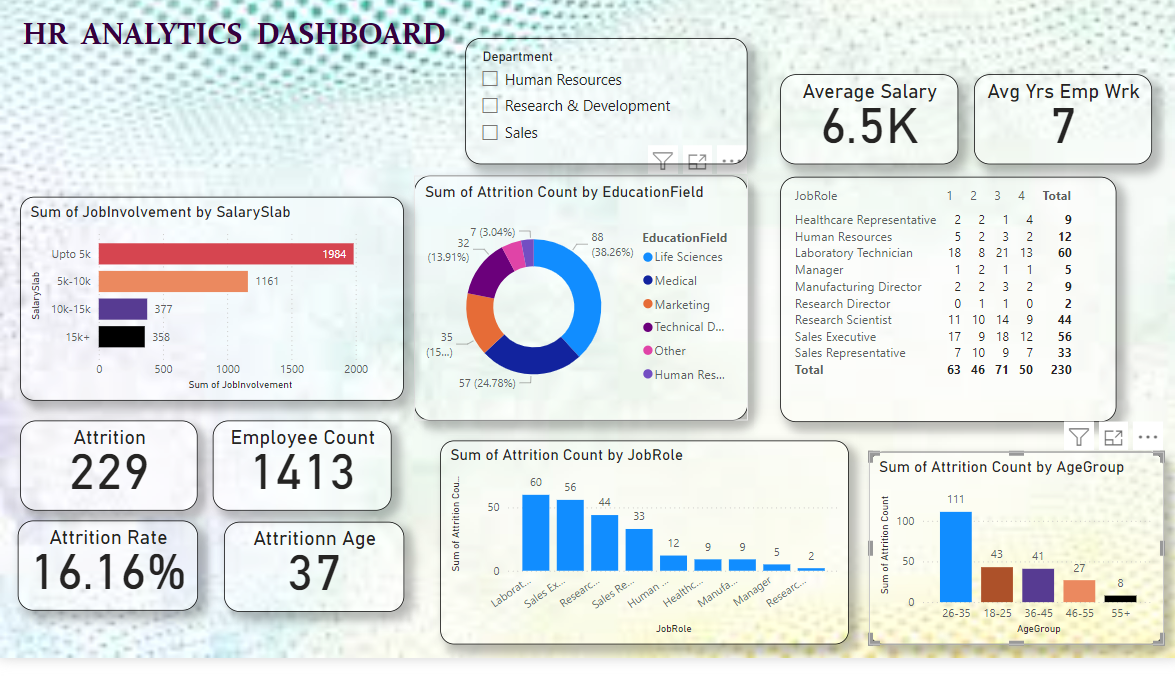

What the dashboard file says about the page in this screenshot:
{"tool":"powerbi","page":{"name":"Page 1","canvas":[1280,720],"ordinal":0},"visuals":[{"type":"textbox","box":[20,20,662.8,49],"z":0},{"type":"card","title":"Employee Count","fields":{"Values":["Count(HR_Analytics.EmpID)"]},"box":[20,87.5,193.8,97.5],"z":1000},{"type":"card","title":"Attrition","fields":{"Values":["Count(HR_Analytics.EmpID)"]},"box":[231.2,87.5,192.5,97.5],"z":2000},{"type":"card","title":"Attrition Rate","fields":{"Values":["HR_Analytics.Attrition Rate"]},"box":[436.2,87.5,193.8,97.5],"z":3000},{"type":"card","title":"Attritionn Age","fields":{"Values":["Avg(HR_Analytics.Age)"]},"box":[640,87.5,195,97.5],"z":4000},{"type":"card","title":"Average Salary","fields":{"Values":["Avg(HR_Analytics.MonthlyIncome)"]},"box":[846.2,87.5,192.5,97.5],"z":5000},{"type":"card","title":"Avg Yrs Emp Wrk","fields":{"Values":["Avg(HR_Analytics.YearsAtCompany)"]},"box":[1056.2,87.5,192.5,97.5],"z":6000},{"type":"donutChart","fields":{"Category":["HR_Analytics.EducationField"],"Y":["Sum(HR_Analytics.Attrition Count)"]},"box":[20,197.1,361.4,265.7],"z":7000},{"type":"clusteredColumnChart","fields":{"Y":["Sum(HR_Analytics.Attrition Count)"],"Category":["HR_Analytics.AgeGroup"]},"box":[435.7,197.1,358.6,265.7],"z":8000},{"type":"pivotTable","fields":{"Rows":["HR_Analytics.JobRole"],"Columns":["HR_Analytics.JobSatisfaction"],"Values":["Sum(HR_Analytics.Attrition Count)"]},"box":[845.7,197.1,364.3,265.7],"z":9000},{"type":"clusteredBarChart","fields":{"Y":["Sum(HR_Analytics.JobInvolvement)"],"Category":["HR_Analytics.SalarySlab"]},"box":[20,481.4,415.7,221.4],"z":10000},{"type":"columnChart","fields":{"Category":["HR_Analytics.JobRole"],"Y":["Sum(HR_Analytics.Attrition Count)"]},"box":[461.4,482.9,442.9,221.4],"z":11000},{"type":"slicer","fields":{"Values":["HR_Analytics.Department"]},"box":[929.8,484.5,305.9,136.7],"z":11001}]}

Visuals, with their boxes in screenshot pixels (x1, y1, x2, y2), scaled from the page's 1280x720 canvas onto the 1175x677 screenshot:
textbox: (left=18, top=19, right=627, bottom=65)
"Employee Count" card: (left=18, top=82, right=196, bottom=174)
"Attrition" card: (left=212, top=82, right=389, bottom=174)
"Attrition Rate" card: (left=400, top=82, right=578, bottom=174)
"Attritionn Age" card: (left=588, top=82, right=767, bottom=174)
"Average Salary" card: (left=777, top=82, right=953, bottom=174)
"Avg Yrs Emp Wrk" card: (left=970, top=82, right=1146, bottom=174)
donutChart - HR_Analytics.EducationField x Sum(HR_Analytics.Attrition Count): (left=18, top=185, right=350, bottom=435)
clusteredColumnChart - Sum(HR_Analytics.Attrition Count) x HR_Analytics.AgeGroup: (left=400, top=185, right=729, bottom=435)
pivotTable - HR_Analytics.JobRole x HR_Analytics.JobSatisfaction: (left=776, top=185, right=1111, bottom=435)
clusteredBarChart - Sum(HR_Analytics.JobInvolvement) x HR_Analytics.SalarySlab: (left=18, top=453, right=400, bottom=661)
columnChart - HR_Analytics.JobRole x Sum(HR_Analytics.Attrition Count): (left=424, top=454, right=830, bottom=662)
slicer - HR_Analytics.Department: (left=854, top=456, right=1134, bottom=584)
